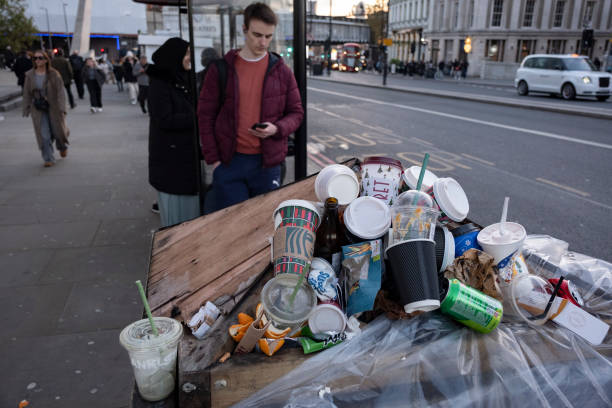General waste: (231, 310, 283, 356), (451, 249, 488, 285)
glass: (319, 201, 348, 262)
metal: (441, 275, 505, 334)
paper: (391, 241, 436, 311), (273, 204, 317, 273), (487, 224, 526, 294)
plastic: (124, 319, 180, 395)
